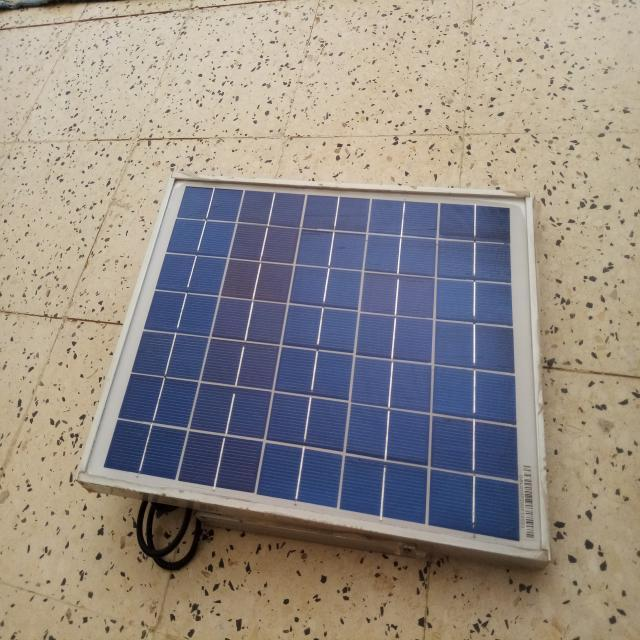Normal Solar Panel: (77, 174, 551, 560)
